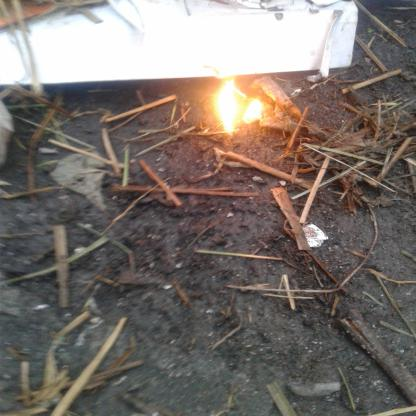Fire: (194, 68, 284, 150)
